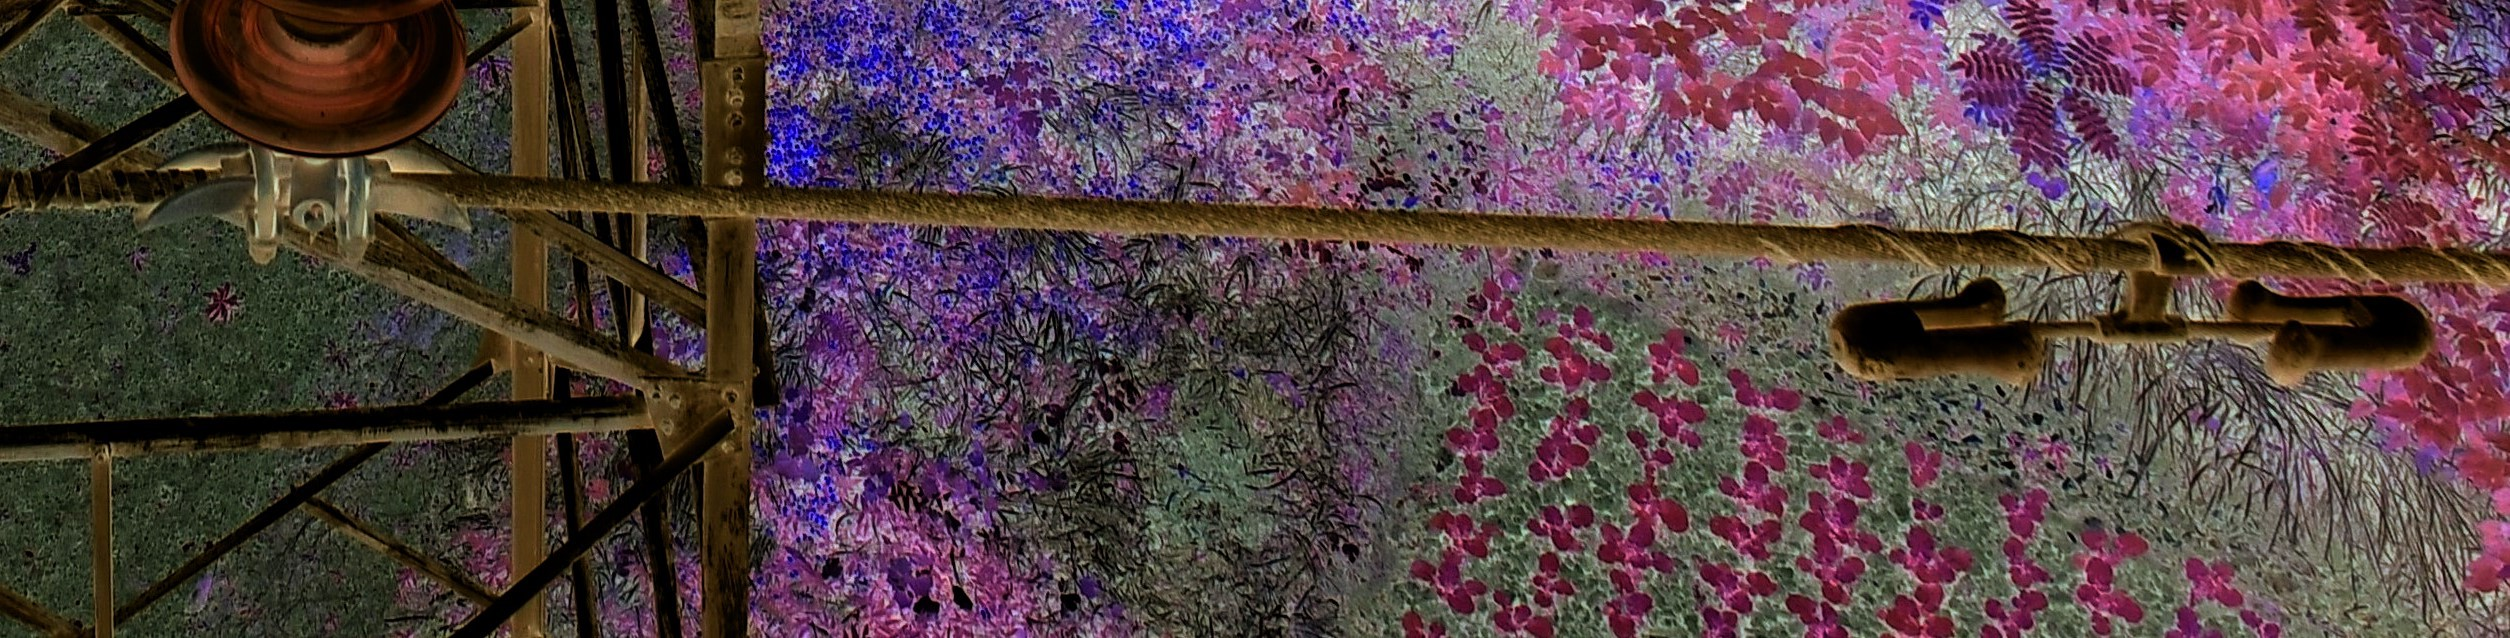Shockproof hammer: (1815, 208, 2449, 393)
